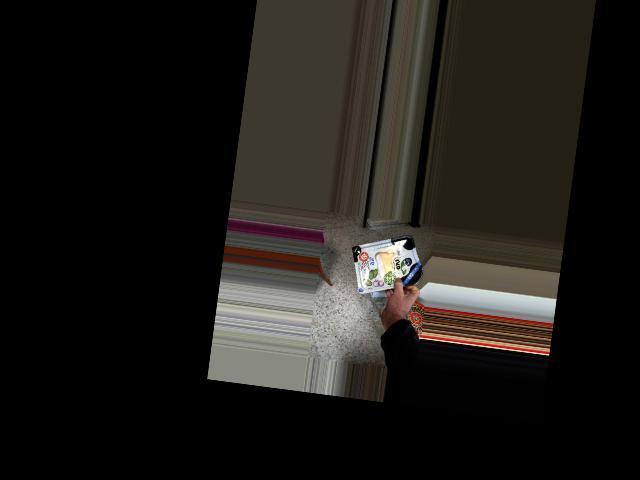cheese: (352, 235, 421, 290)
